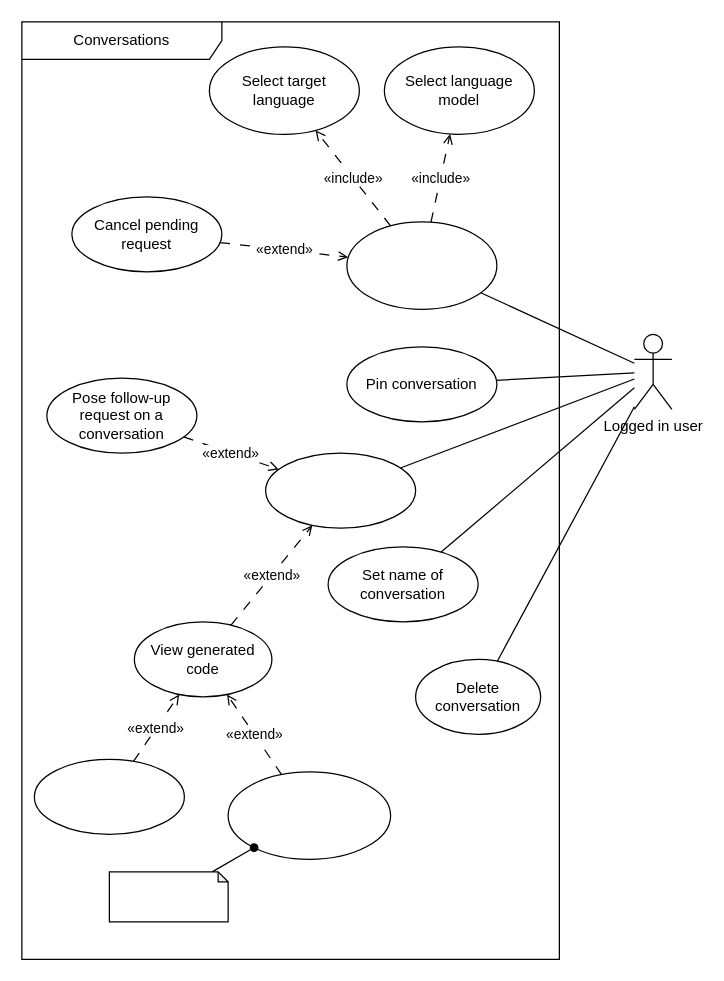
Some shapes in this 724 by 981 pixel diagram are drawn without their labels. Each missing label, with the centre of its shape:
Available if language allows visualization: point 168,896
Export code to file: point 108,796
Start conversation: point 421,265
View previous conversation: point 340,490
View visualization of code: point 309,815
